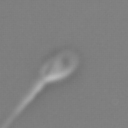abnormal: (1, 79, 45, 128)
